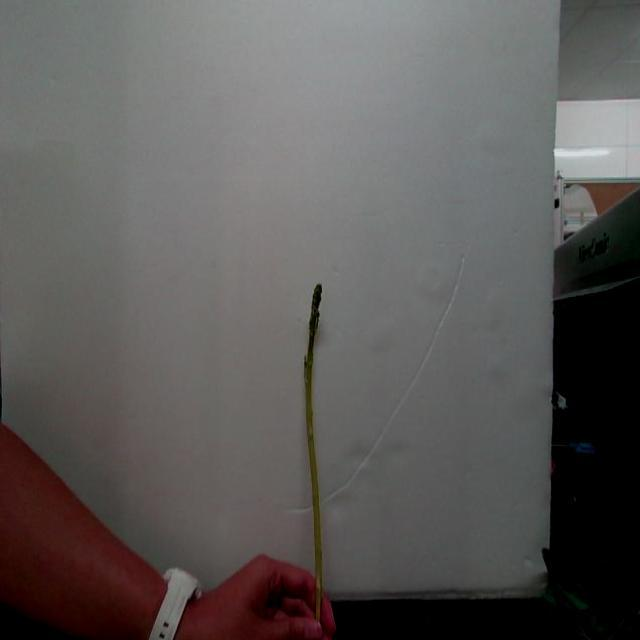aspargus: (304, 286, 326, 606)
